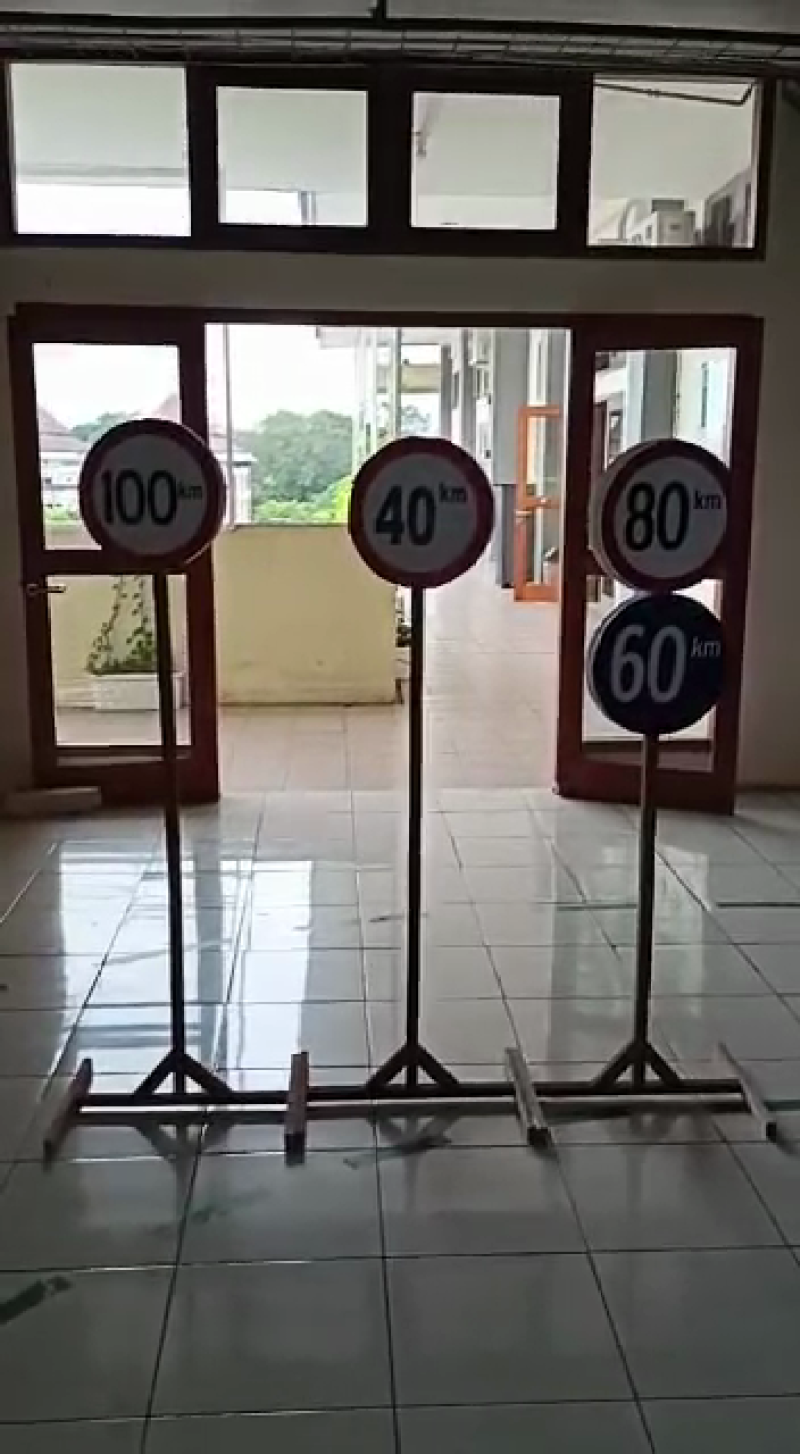batas maksimal 100kmperjam: (74, 405, 231, 577)
batas maksimal 40kmperjam: (346, 422, 489, 587)
batas maksimal 80kmperjam minimal 60kmperjam: (570, 437, 753, 737)
